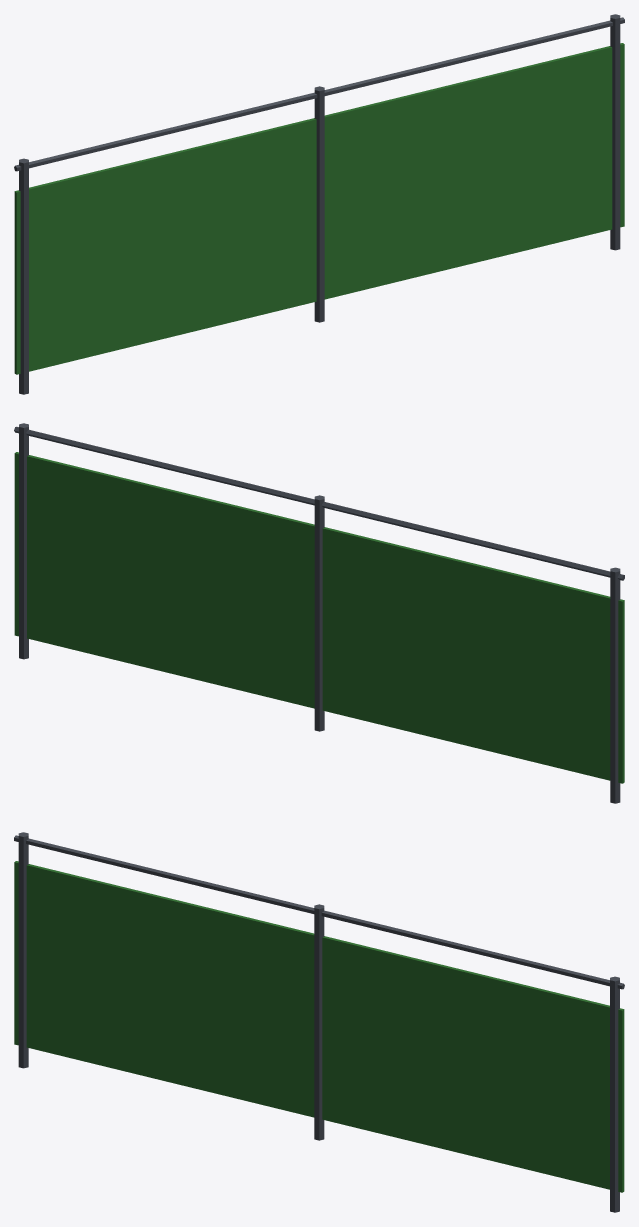
Rendered from Windscreen_22.glb.
3 renders of one model, top to bottom at view 1: azimuth 30°, elevation 25°; view 2: azimuth 150°, elevation 25°; view 3: azimuth 330°, elevation 25°, orthographic.
Parts seen in each view (by area): view 1: Windscreen_22; view 2: Windscreen_22; view 3: Windscreen_22.
Part boxes in pixels (bbox=[...]): Windscreen_22: bbox=[14, 14, 624, 394]; Windscreen_22: bbox=[14, 423, 624, 803]; Windscreen_22: bbox=[14, 832, 624, 1212].
Size of the model in its own units: 22 by 8 by 0.3118.
1 material, 1 textured.
